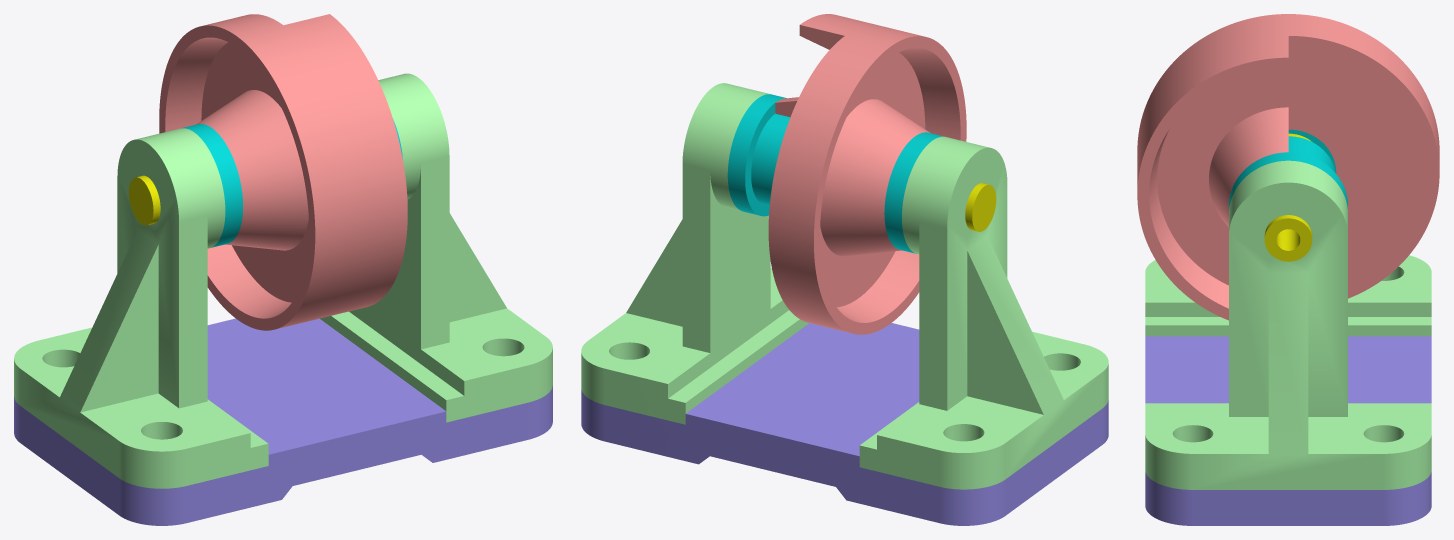
Rendered from assemblycb.glb.
3 renders of one model, left to right at view 1: azimuth 30°, elevation 25°; view 2: azimuth 150°, elevation 25°; view 3: azimuth 270°, elevation 25°, orthographic. The views are drawn at different scales.
Visible parts, largest first — view 1: Pocket.004, Pad.008, Pocket.005, Pad.005, Pad.007, Pocket.006; view 2: Pad.008, Pocket.004, Pocket.005, Pad.005, Pad.006, Pad.007, Pocket.006; view 3: Pocket.004, Pad.005, Pocket.005, Pad.008, Pocket.006, Pad.006.
Boxes of the visible parts, box(x1,y1,x2,y2) form: Pocket.004: box(159, 14, 407, 330); Pad.008: box(14, 128, 268, 488); Pocket.005: box(14, 318, 552, 525); Pad.005: box(320, 73, 552, 422); Pad.007: box(182, 124, 242, 247); Pocket.006: box(129, 175, 160, 225); Pad.008: box(859, 136, 1108, 489); Pocket.004: box(768, 14, 966, 334); Pocket.005: box(581, 323, 1108, 525); Pad.005: box(581, 83, 808, 424); Pad.006: box(727, 94, 790, 216); Pad.007: box(884, 132, 943, 253); Pocket.006: box(965, 183, 996, 231); Pocket.004: box(1137, 14, 1439, 320); Pad.005: box(1145, 160, 1431, 489); Pocket.005: box(1145, 336, 1431, 525); Pad.008: box(1145, 255, 1431, 336); Pocket.006: box(1264, 133, 1312, 261); Pad.006: box(1229, 136, 1347, 208).
Bounding box in the file's own units: 0.12 × 0.108 × 0.076.
